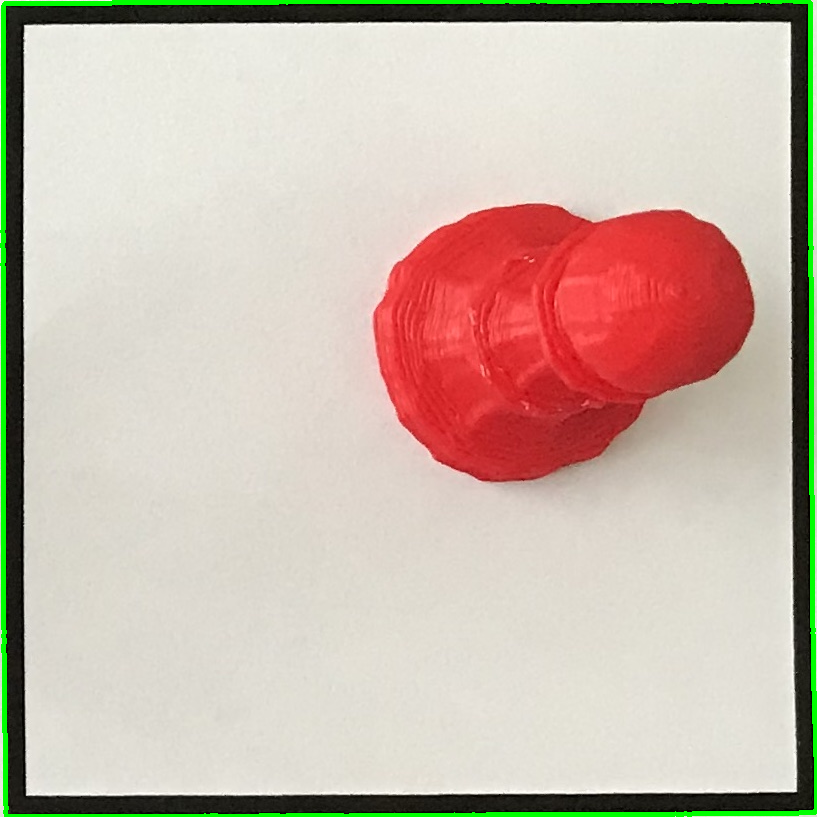Red Pawn: (355, 183, 773, 508)
